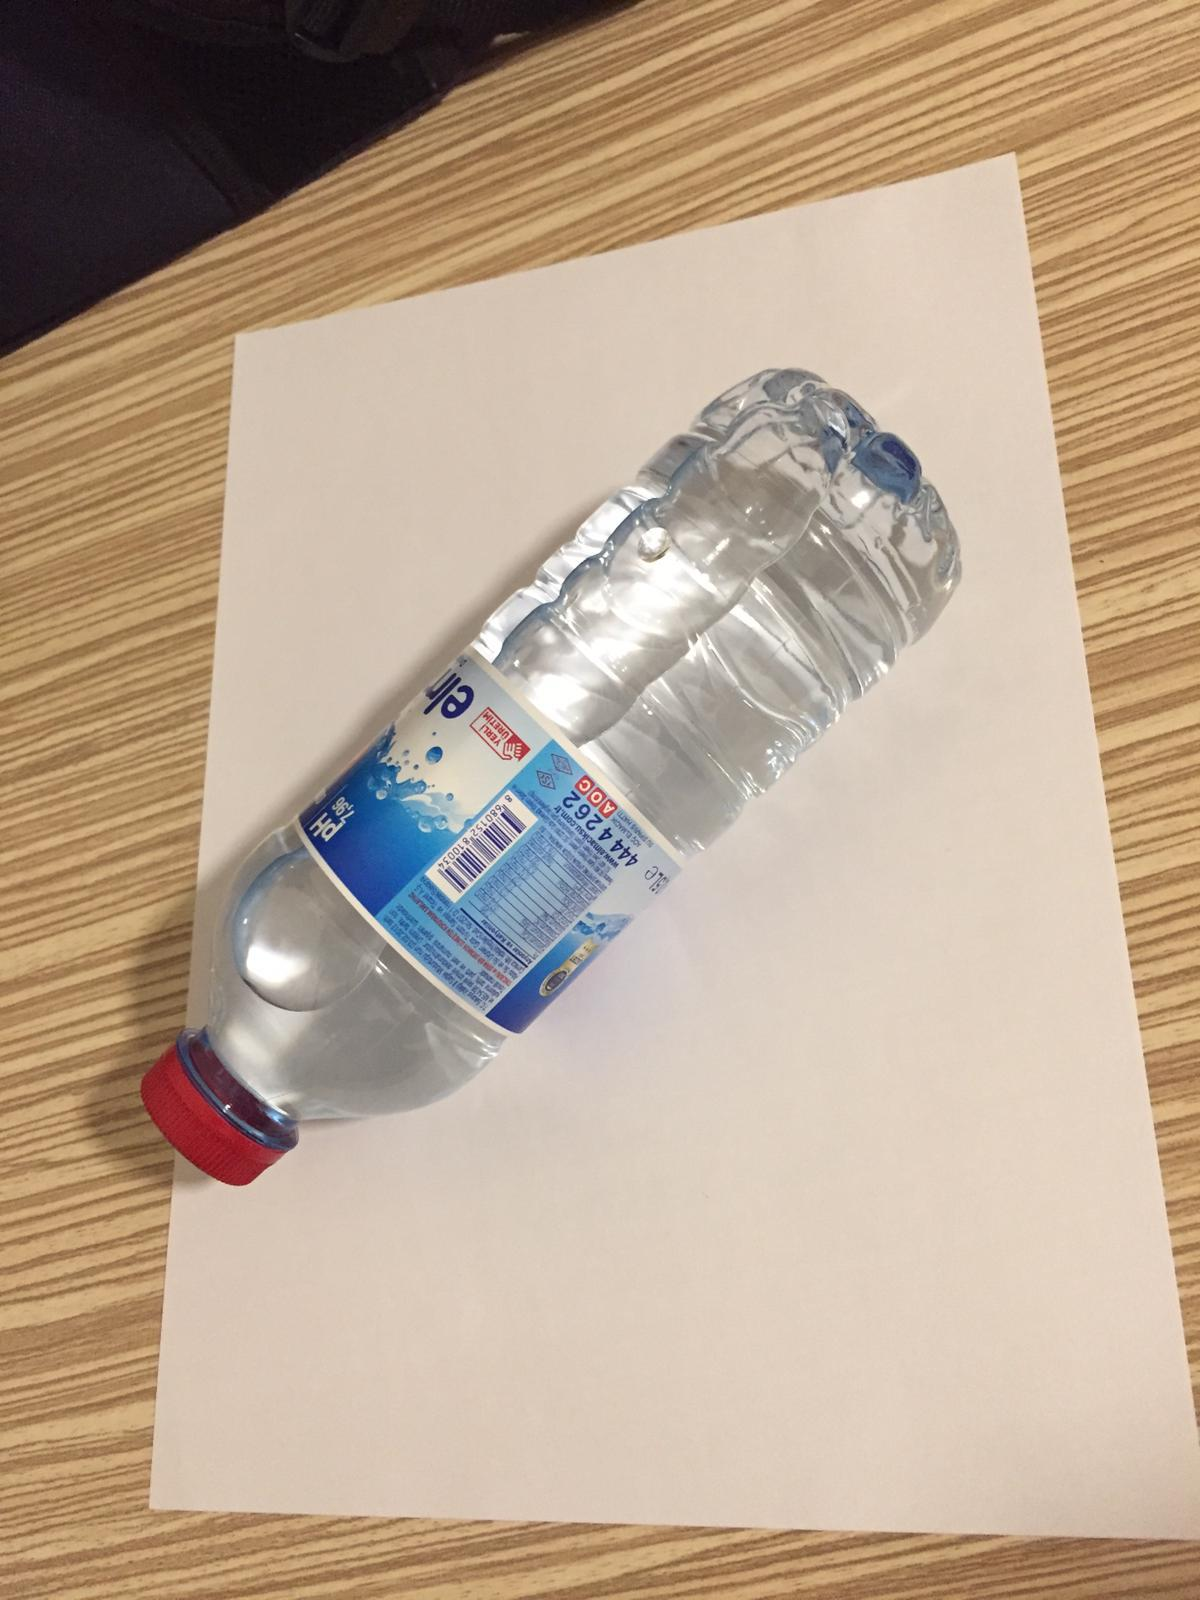bottle: (141, 364, 957, 1191)
